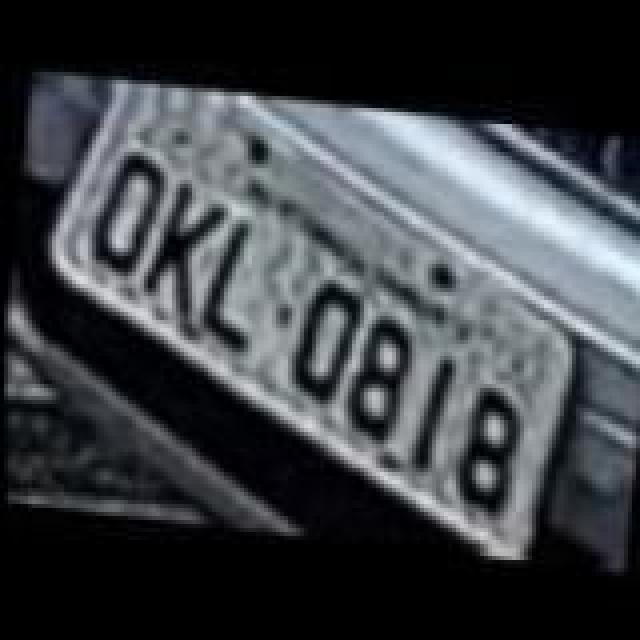1: (400, 346, 464, 474)
8: (442, 372, 522, 516), (334, 304, 414, 440)
K: (128, 172, 224, 324)
L: (186, 206, 274, 350)
O: (74, 142, 170, 274), (278, 270, 362, 406)
